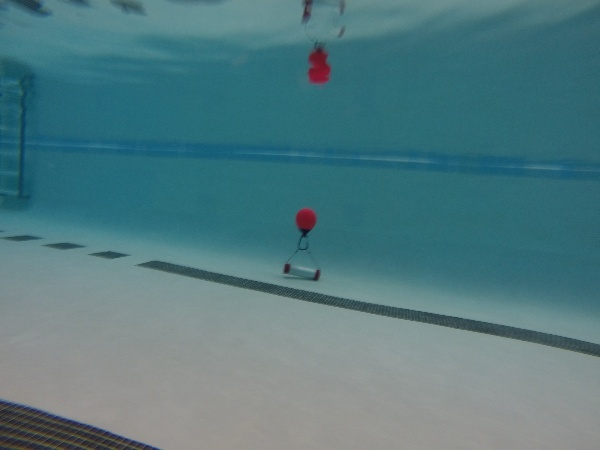buoy_red: (295, 208, 317, 238)
